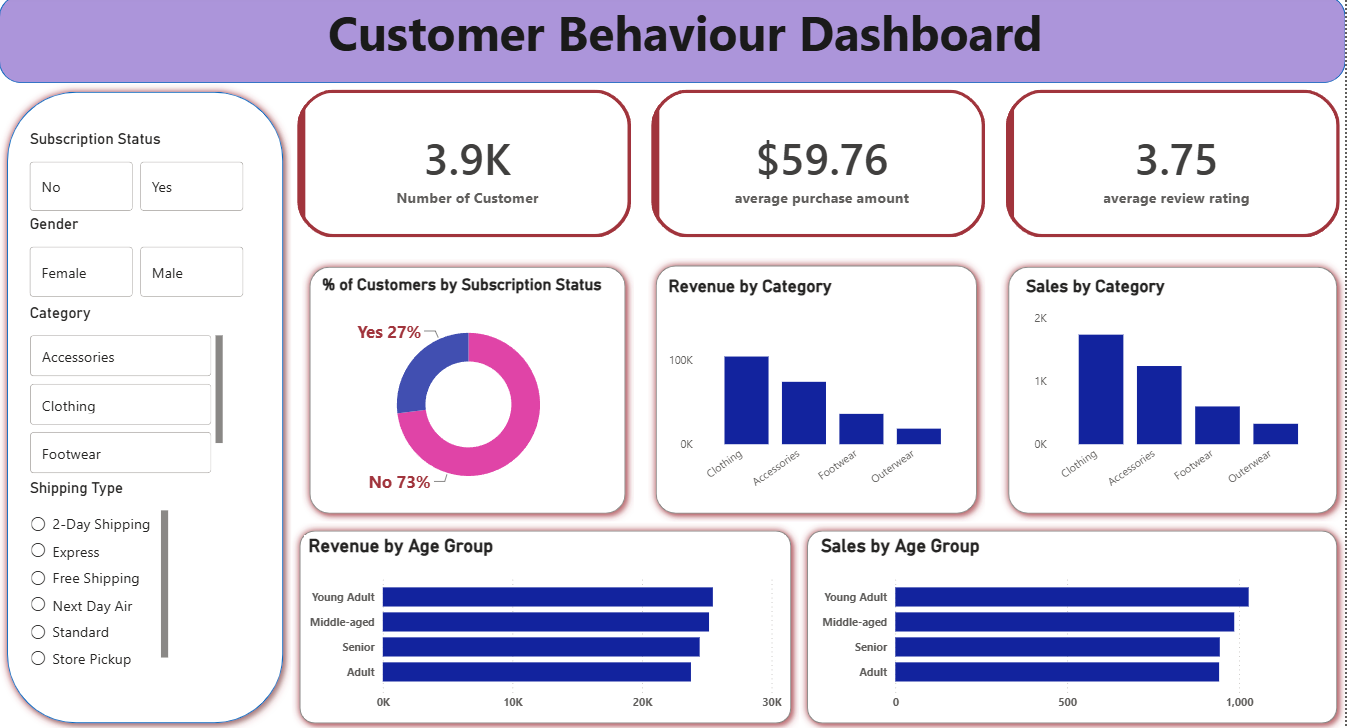

The dashboard page shown, as its layout file describes it:
{"tool":"powerbi","page":{"name":"Page 1","canvas":[1500,820],"ordinal":0},"visuals":[{"type":"cardVisual","fields":{"Data":["customer.Number of Customer","customer.average purchase amount","customer.average review rating"]},"box":[325.7,98.6,1174.3,177.1],"z":0},{"type":"shape","box":[0,0,1500.3,98.1],"z":1000},{"type":"textbox","box":[0,0,1500,98.6],"z":2000},{"type":"shape","box":[337.1,294.3,370,292.9],"z":3000},{"type":"donutChart","title":"% of Customers by Subscription Status","fields":{"Category":["customer.subscription_status"],"Y":["CountNonNull(customer.customer_id)"]},"box":[355.7,311.4,336.2,256.6],"z":4000},{"type":"shape","box":[722.9,292.9,375.7,294.3],"z":5000},{"type":"shape","box":[1115.7,294.3,384.3,292.9],"z":6000},{"type":"clusteredColumnChart","title":"Revenue by Category","fields":{"Category":["customer.category"],"Y":["Sum(customer.purchase_amount)"]},"box":[741.4,312.9,341.4,257.1],"z":7000},{"type":"clusteredColumnChart","title":"Sales by Category","fields":{"Category":["customer.category"],"Y":["CountNonNull(customer.customer_id)"]},"box":[1138.6,312.9,341.4,257.1],"z":8000},{"type":"shape","box":[0,98.6,325.7,721.4],"z":9000},{"type":"advancedSlicerVisual","fields":{"Values":["customer.subscription_status"]},"box":[28.6,150,248.6,95.7],"z":10000},{"type":"advancedSlicerVisual","fields":{"Values":["customer.gender"]},"box":[28.6,245.7,248.6,97.1],"z":10001},{"type":"advancedSlicerVisual","fields":{"Values":["customer.category"]},"box":[28.6,344.3,225.7,194.3],"z":10002},{"type":"listSlicer","fields":{"Values":["customer.shipping_type"]},"box":[28.6,538.6,164.3,217.1],"z":10003},{"type":"shape","box":[325.7,587.1,565.7,232.9],"z":10004},{"type":"shape","box":[891.4,587.1,608.6,232.9],"z":10005},{"type":"clusteredBarChart","title":"Revenue by Age Group","fields":{"Category":["customer.age_group"],"Y":["Sum(customer.previous_purchases)"]},"box":[340,601.4,537.1,204.3],"z":10006},{"type":"clusteredBarChart","title":"Sales by Age Group","fields":{"Category":["customer.age_group"],"Y":["CountNonNull(customer.customer_id)"]},"box":[911.4,601.4,568.6,204.3],"z":10007}]}

Visuals, with their boxes in screenshot pixels (x1, y1, x2, y2), scaled from the page's 1500x820 canvas onto the 1347x728 screenshot:
cardVisual - customer.Number of Customer x customer.average purchase amount: [292, 88, 1346, 245]
shape: [0, 0, 1346, 87]
textbox: [0, 0, 1346, 88]
shape: [303, 261, 635, 521]
"% of Customers by Subscription Status" donutChart: [319, 276, 621, 504]
shape: [649, 260, 987, 521]
shape: [1002, 261, 1346, 521]
"Revenue by Category" clusteredColumnChart: [666, 278, 972, 506]
"Sales by Category" clusteredColumnChart: [1022, 278, 1329, 506]
shape: [0, 88, 292, 727]
advancedSlicerVisual - customer.subscription_status: [26, 133, 249, 218]
advancedSlicerVisual - customer.gender: [26, 218, 249, 304]
advancedSlicerVisual - customer.category: [26, 306, 228, 478]
listSlicer - customer.shipping_type: [26, 478, 173, 671]
shape: [292, 521, 800, 727]
shape: [800, 521, 1346, 727]
"Revenue by Age Group" clusteredBarChart: [305, 534, 788, 715]
"Sales by Age Group" clusteredBarChart: [818, 534, 1329, 715]
